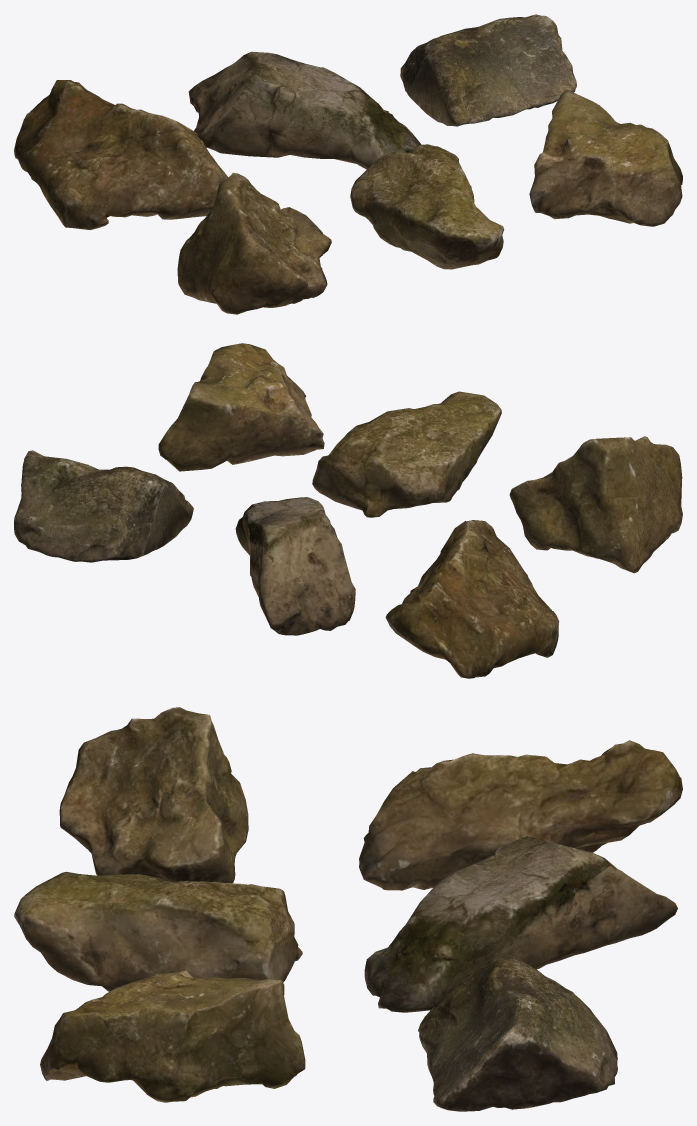
The model's file is moss-boulders.glb.
3 views of the same model, one above another, from view 1: azimuth 30°, elevation 25°; view 2: azimuth 150°, elevation 25°; view 3: azimuth 270°, elevation 25° (orthographic). The views are drawn at different scales.
Visible parts, largest first — view 1: rock_moss_set_01_rock01, rock_moss_set_01_rock02, rock_moss_set_01_rock06, rock_moss_set_01_rock04, rock_moss_set_01_rock03, rock_moss_set_01_rock05; view 2: rock_moss_set_01_rock04, rock_moss_set_01_rock01, rock_moss_set_01_rock05, rock_moss_set_01_rock03, rock_moss_set_01_rock06, rock_moss_set_01_rock02; view 3: rock_moss_set_01_rock01, rock_moss_set_01_rock02, rock_moss_set_01_rock05, rock_moss_set_01_rock04, rock_moss_set_01_rock06, rock_moss_set_01_rock03.
Boxes of the visible parts, x1=… form: rock_moss_set_01_rock01: x1=14, y1=80, x2=228, y2=230; rock_moss_set_01_rock02: x1=188, y1=51, x2=421, y2=169; rock_moss_set_01_rock06: x1=529, y1=90, x2=682, y2=226; rock_moss_set_01_rock04: x1=177, y1=172, x2=331, y2=314; rock_moss_set_01_rock03: x1=400, y1=14, x2=576, y2=126; rock_moss_set_01_rock05: x1=350, y1=144, x2=504, y2=269; rock_moss_set_01_rock04: x1=509, y1=436, x2=682, y2=573; rock_moss_set_01_rock01: x1=385, y1=520, x2=559, y2=678; rock_moss_set_01_rock05: x1=312, y1=391, x2=501, y2=517; rock_moss_set_01_rock03: x1=14, y1=450, x2=193, y2=562; rock_moss_set_01_rock06: x1=158, y1=343, x2=324, y2=471; rock_moss_set_01_rock02: x1=235, y1=497, x2=355, y2=635; rock_moss_set_01_rock01: x1=359, y1=740, x2=682, y2=890; rock_moss_set_01_rock02: x1=364, y1=836, x2=677, y2=1012; rock_moss_set_01_rock05: x1=14, y1=871, x2=302, y2=991; rock_moss_set_01_rock04: x1=59, y1=707, x2=248, y2=883; rock_moss_set_01_rock06: x1=40, y1=970, x2=305, y2=1102; rock_moss_set_01_rock03: x1=418, y1=956, x2=617, y2=1111.
Size of the model in its own units: 8 by 1.77 by 6.94.
Materials: 1 (1 with a texture image).
